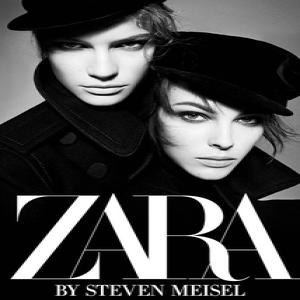zara: (7, 188, 300, 281)
